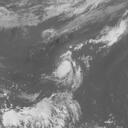cyclone: (52, 52, 85, 89)
